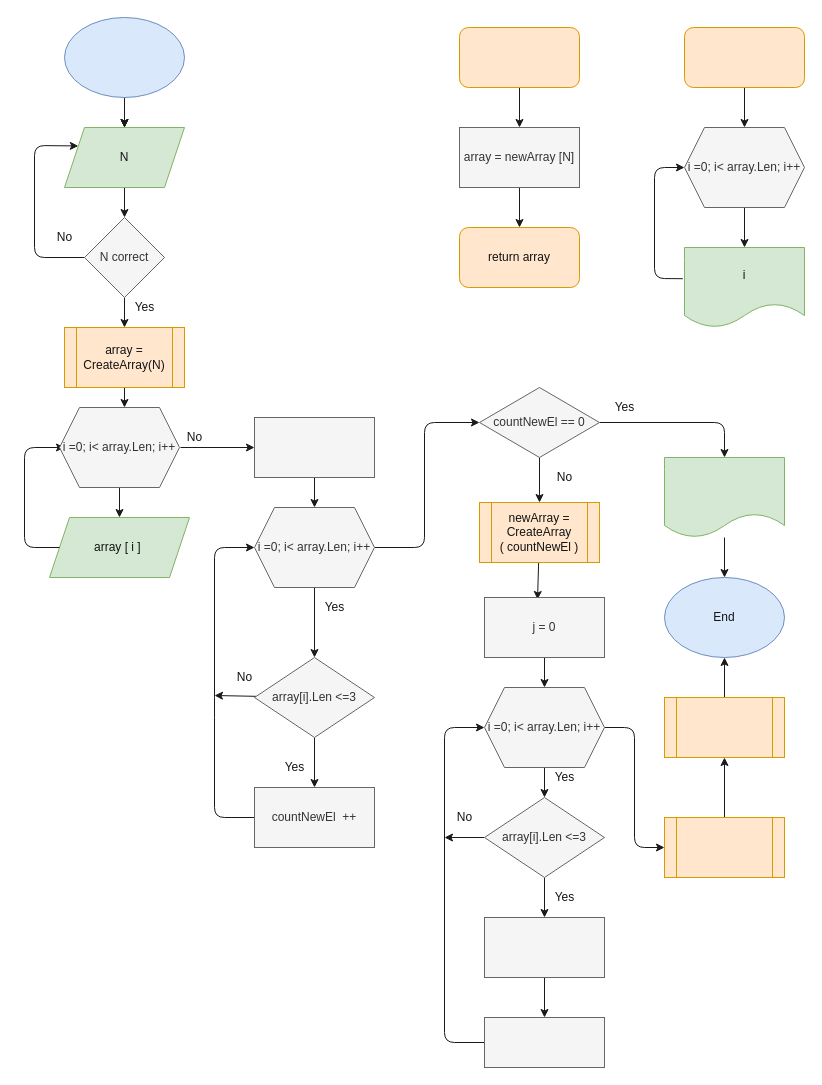
Some shapes in this 822 by 1085 pixel diagram are drawn without their labels. Here are the shapes that lost their labels. From the top down, the box of each, then its label:
(64, 16, 184, 98): Start
(458, 26, 580, 88): CreateArray( N )
(684, 26, 804, 88): PrintArray( array )
(254, 416, 374, 478): countNewEl = 0
(664, 456, 784, 538): no valid elements
(664, 696, 784, 758): PrintArray ( newArray)
(664, 816, 784, 878): PrintArray ( array)
(484, 916, 604, 978): newArray[ j ] = array[ i ]
(484, 1016, 604, 1068): j ++
